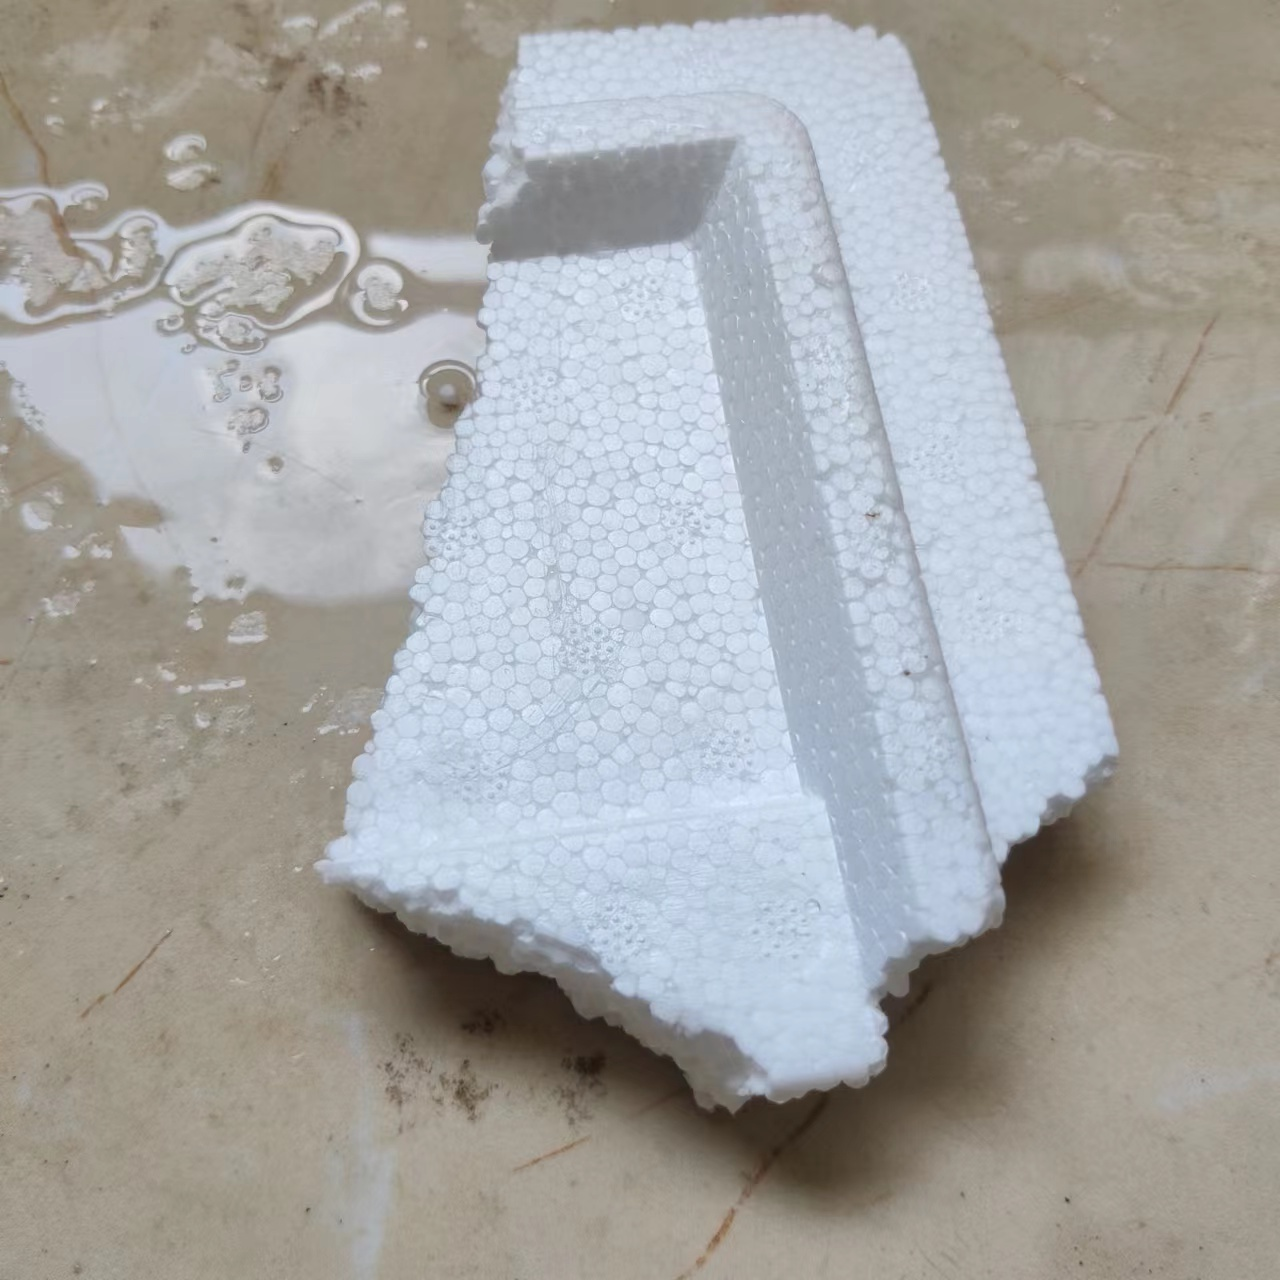5/可回收垃圾/泡沫: (313, 14, 1115, 1118)
